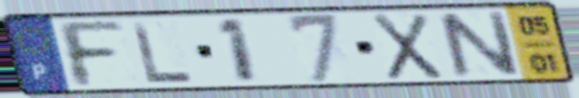1: (215, 16, 265, 85)
7: (282, 11, 345, 86)
F: (51, 19, 129, 90)
L: (128, 19, 198, 86)
N: (432, 8, 524, 81)
X: (368, 11, 446, 83)
